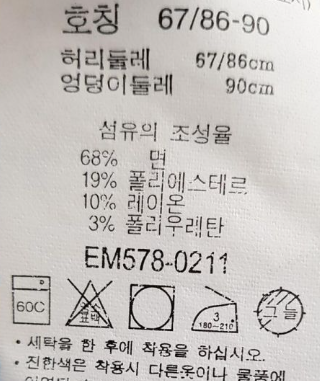KR_iron_high_temp: (186, 282, 241, 337)
KR_no_chlorine_bleach: (61, 277, 115, 330)
KR_tumble_dry: (126, 281, 180, 334)
KR_wash_60: (8, 271, 56, 327)
